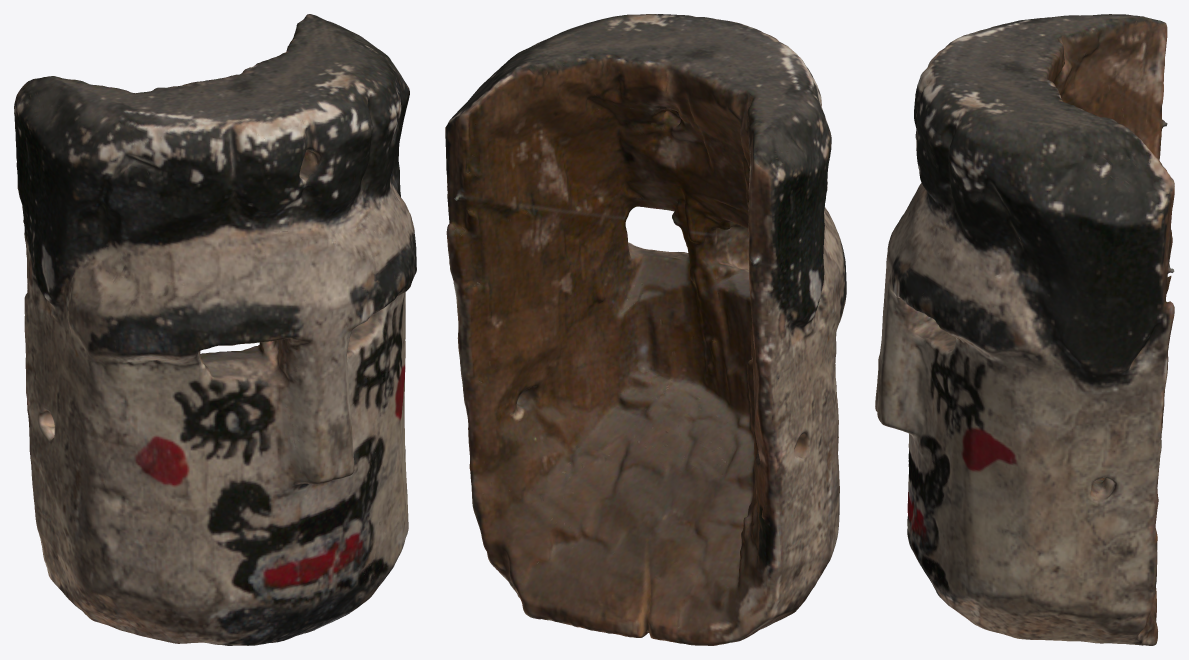
The model's file is alti-dante.glb.
3 renders of one model, left to right at view 1: azimuth 30°, elevation 25°; view 2: azimuth 150°, elevation 25°; view 3: azimuth 270°, elevation 25°, orthographic. The views are drawn at different scales.
Parts seen in each view (by area): view 1: Object_2, Object_3; view 2: Object_2, Object_3; view 3: Object_3, Object_2.
Boxes of the visible parts, left/top/right/bottom form: Object_2: left=14, top=88, right=408, bottom=645; Object_3: left=16, top=14, right=416, bottom=476; Object_2: left=446, top=63, right=845, bottom=645; Object_3: left=445, top=14, right=846, bottom=451; Object_3: left=878, top=14, right=1174, bottom=468; Object_2: left=875, top=17, right=1174, bottom=645.
Size of the model in its own units: 136 by 206 by 105.
Materials: 1 (1 with a texture image).
